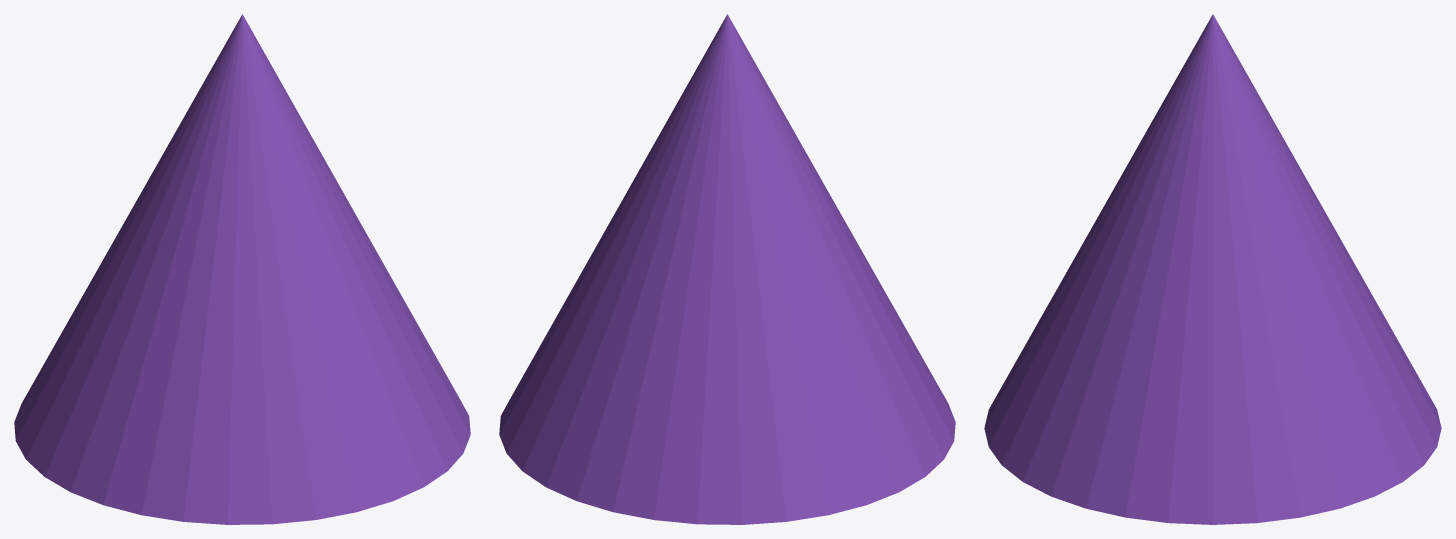
The picture shows the model from 3 angles, left to right: view 1: azimuth 30°, elevation 25°; view 2: azimuth 150°, elevation 25°; view 3: azimuth 270°, elevation 25°; orthographic projection.
Parts seen in each view (by area): view 1: coneGroup; view 2: coneGroup; view 3: coneGroup.
Part boxes in pixels (x1,y1,x2,y2): coneGroup: [14, 14, 470, 524]; coneGroup: [499, 14, 955, 524]; coneGroup: [984, 14, 1441, 524].
Size of the model in its own units: 4 by 4 by 4.
